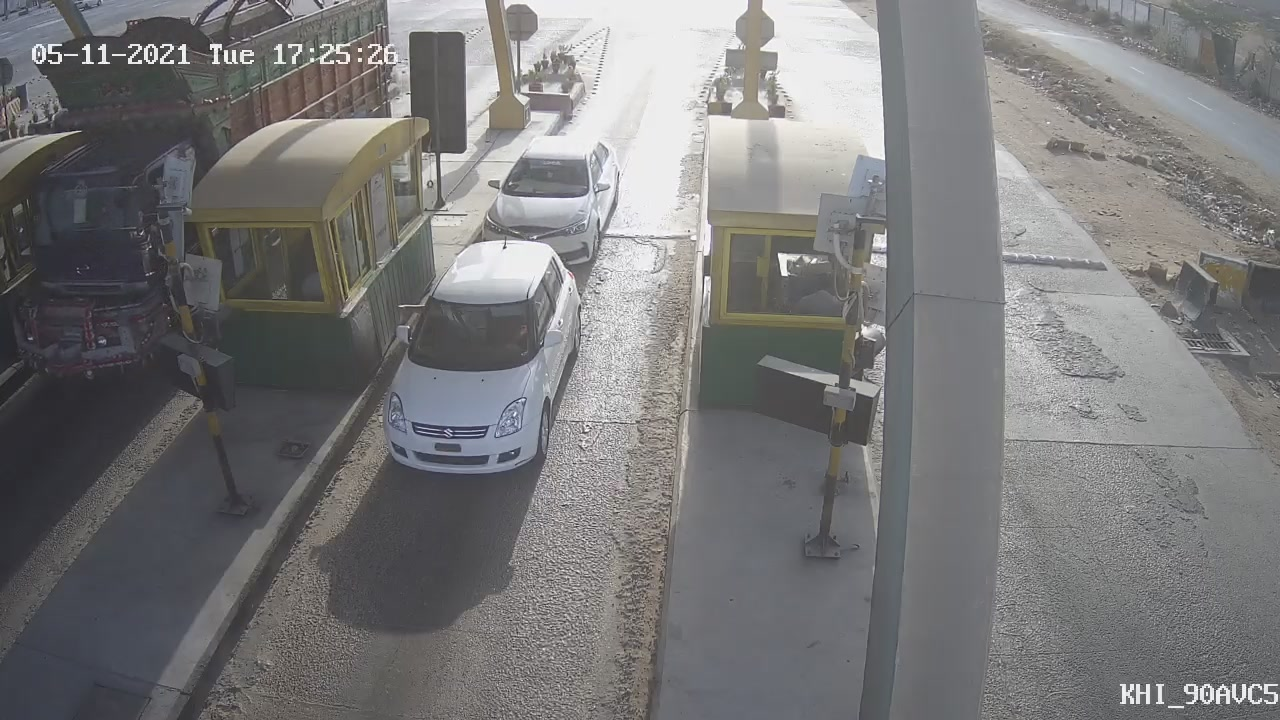F1: (363, 221, 601, 499), (461, 114, 636, 277)
